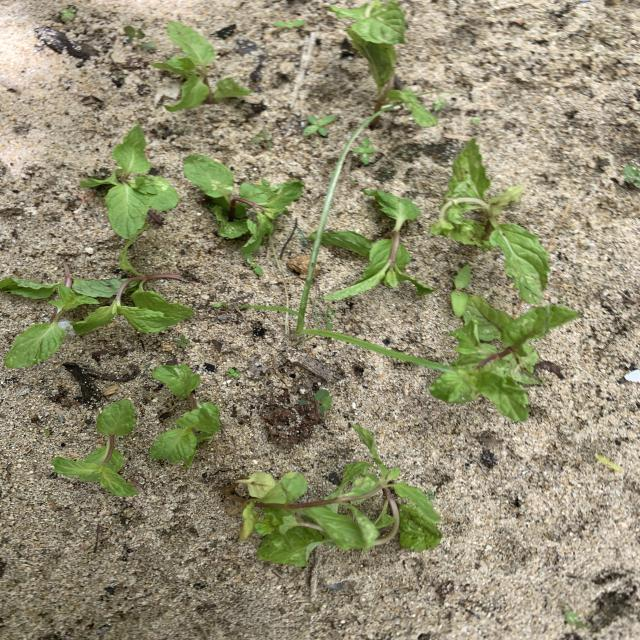crop: (232, 424, 440, 566), (1, 239, 193, 366), (431, 139, 548, 302), (432, 294, 578, 420), (329, 2, 436, 126), (184, 155, 302, 261), (325, 191, 431, 296), (80, 125, 176, 239), (152, 22, 250, 109), (52, 401, 136, 494), (151, 365, 219, 467)
weed: (241, 113, 449, 371), (299, 390, 331, 413), (125, 26, 155, 50), (304, 115, 334, 135), (354, 137, 375, 163), (565, 610, 591, 630), (596, 455, 622, 471), (252, 132, 272, 149), (275, 21, 305, 28), (59, 8, 75, 20), (176, 336, 189, 347), (227, 368, 239, 378)
